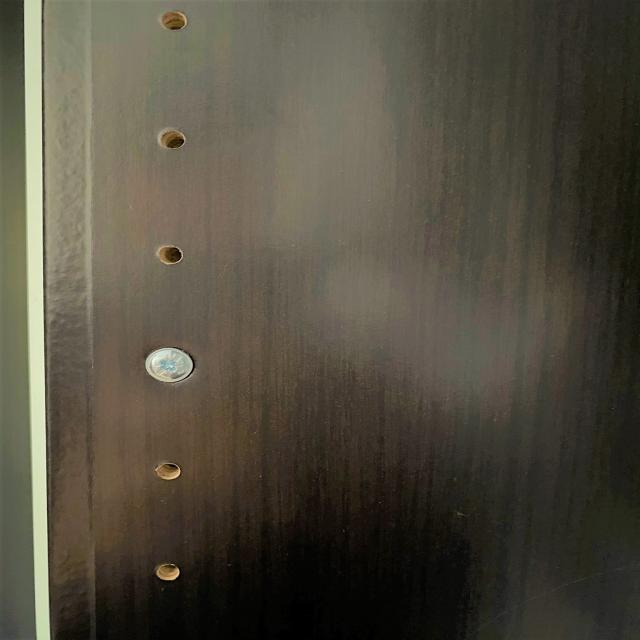PhillipsScrewHead: (142, 347, 196, 383)
